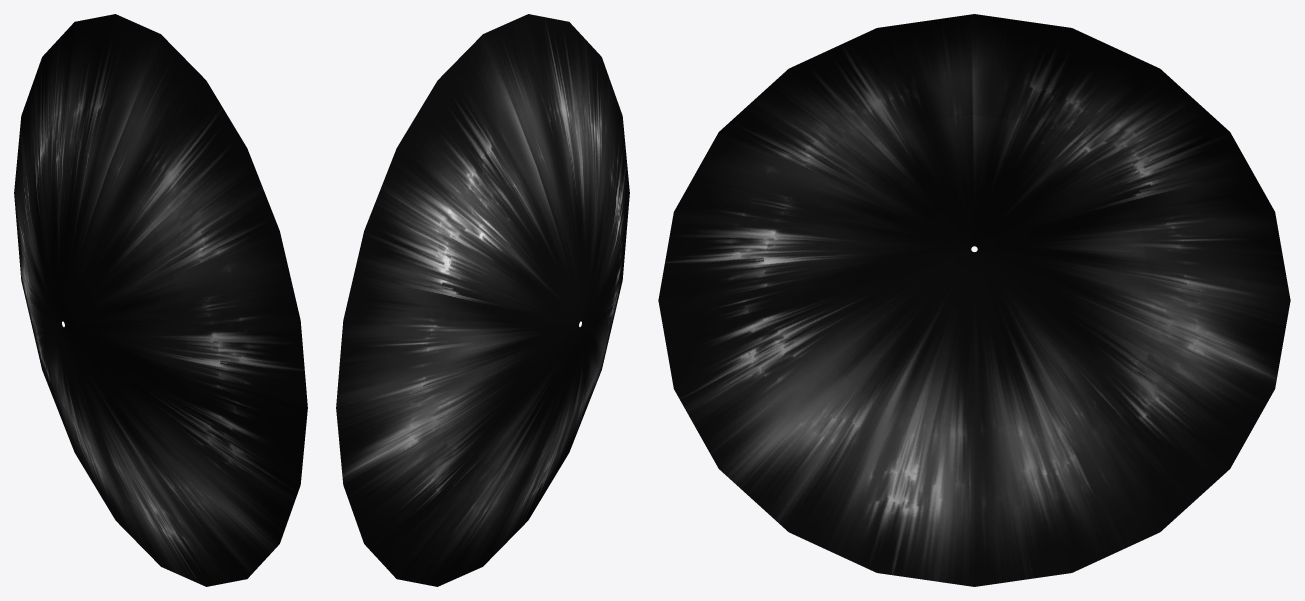
File: Boxing_Effect0.fbx
3 views of the same model, side by side, from view 1: azimuth 30°, elevation 25°; view 2: azimuth 150°, elevation 25°; view 3: azimuth 270°, elevation 25° (orthographic). The views are drawn at different scales.
Parts seen in each view (by area): view 1: SM_Planar_Funnel04.mo; view 2: SM_Planar_Funnel04.mo; view 3: SM_Planar_Funnel04.mo.
Part boxes in pixels (x1,y1,x2,y2): SM_Planar_Funnel04.mo: (14, 14, 307, 586); SM_Planar_Funnel04.mo: (336, 14, 629, 586); SM_Planar_Funnel04.mo: (658, 14, 1290, 586).
Bounding box in the file's own units: 5.78 × 30.16 × 30.16.
1 material, 1 textured.
